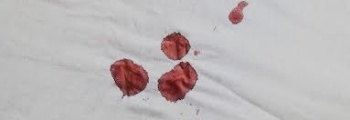blood: (157, 61, 197, 103), (113, 60, 149, 98), (161, 34, 191, 60), (226, 1, 250, 25)
